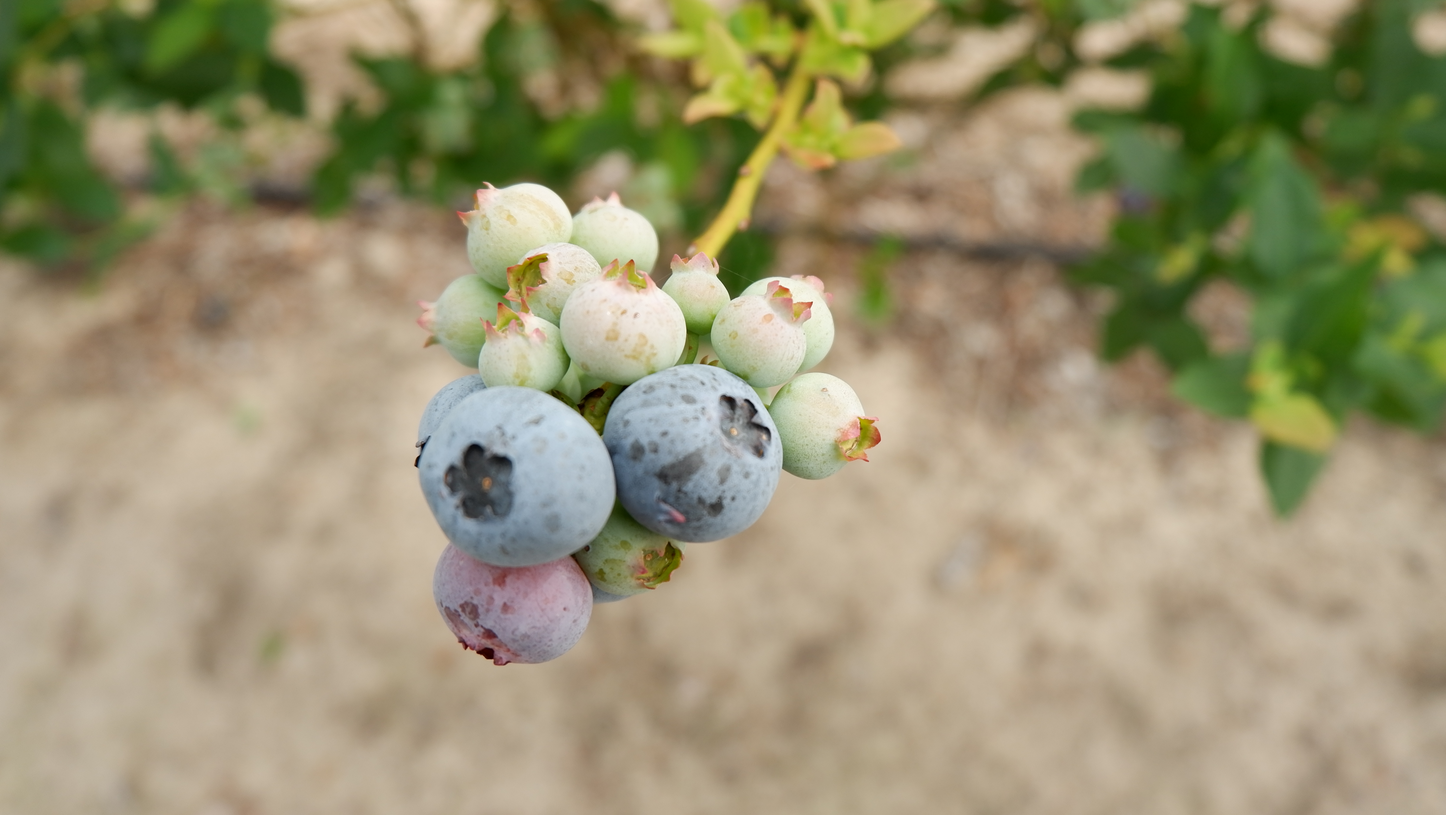Immature: (434, 542, 594, 666), (561, 260, 687, 384), (457, 180, 575, 290), (570, 485, 688, 595), (768, 372, 883, 480), (711, 281, 813, 388), (416, 273, 514, 368), (478, 297, 573, 392), (740, 276, 834, 372), (503, 242, 602, 327), (569, 190, 659, 278), (661, 251, 732, 336), (573, 360, 605, 400), (556, 359, 581, 404)
Mature: (418, 384, 616, 568), (602, 366, 782, 545), (416, 374, 486, 470), (588, 579, 635, 603)
